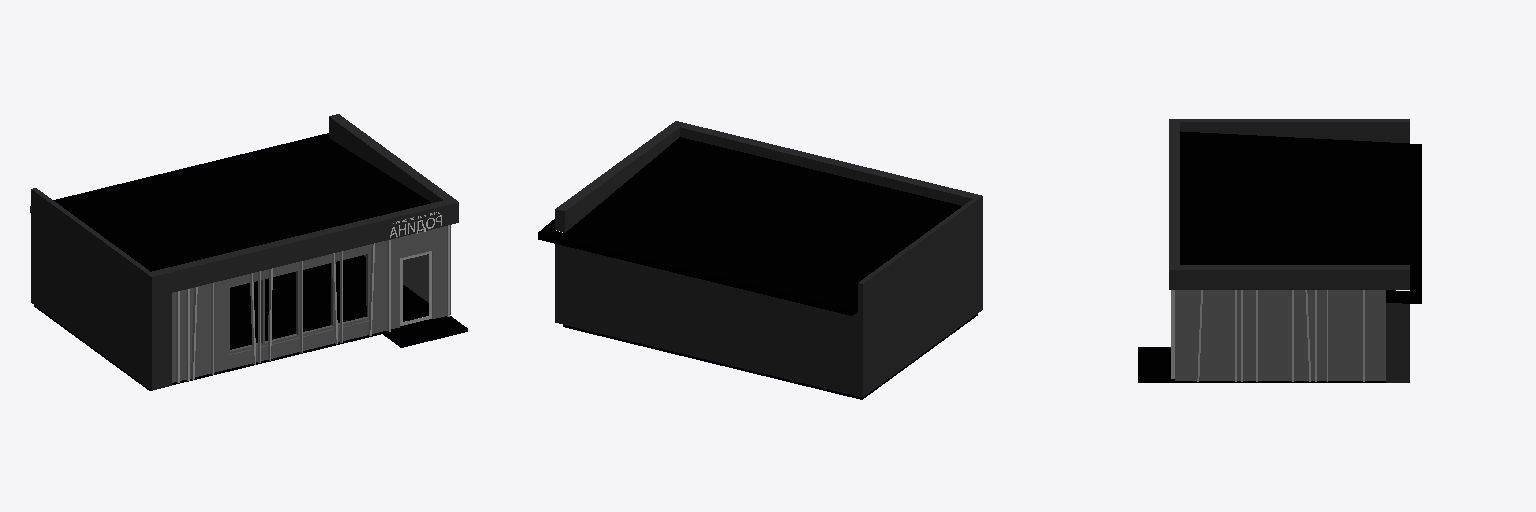
File: rodina2.obj
The picture shows the model from 3 angles: view 1: azimuth 30°, elevation 25°; view 2: azimuth 150°, elevation 25°; view 3: azimuth 270°, elevation 25°; orthographic projection.
Visible parts, largest first — view 1: СКЕЧАП_2018_Офис_продаж_obj_1.1; view 2: СКЕЧАП_2018_Офис_продаж_obj_1.1; view 3: СКЕЧАП_2018_Офис_продаж_obj_1.1.
Boxes of the visible parts, x1,y1,x2,y2 form: СКЕЧАП_2018_Офис_продаж_obj_1.1: [30, 114, 467, 390]; СКЕЧАП_2018_Офис_продаж_obj_1.1: [538, 121, 982, 399]; СКЕЧАП_2018_Офис_продаж_obj_1.1: [1138, 119, 1421, 382].
Bounding box in the file's own units: 9723 × 3400 × 7450.